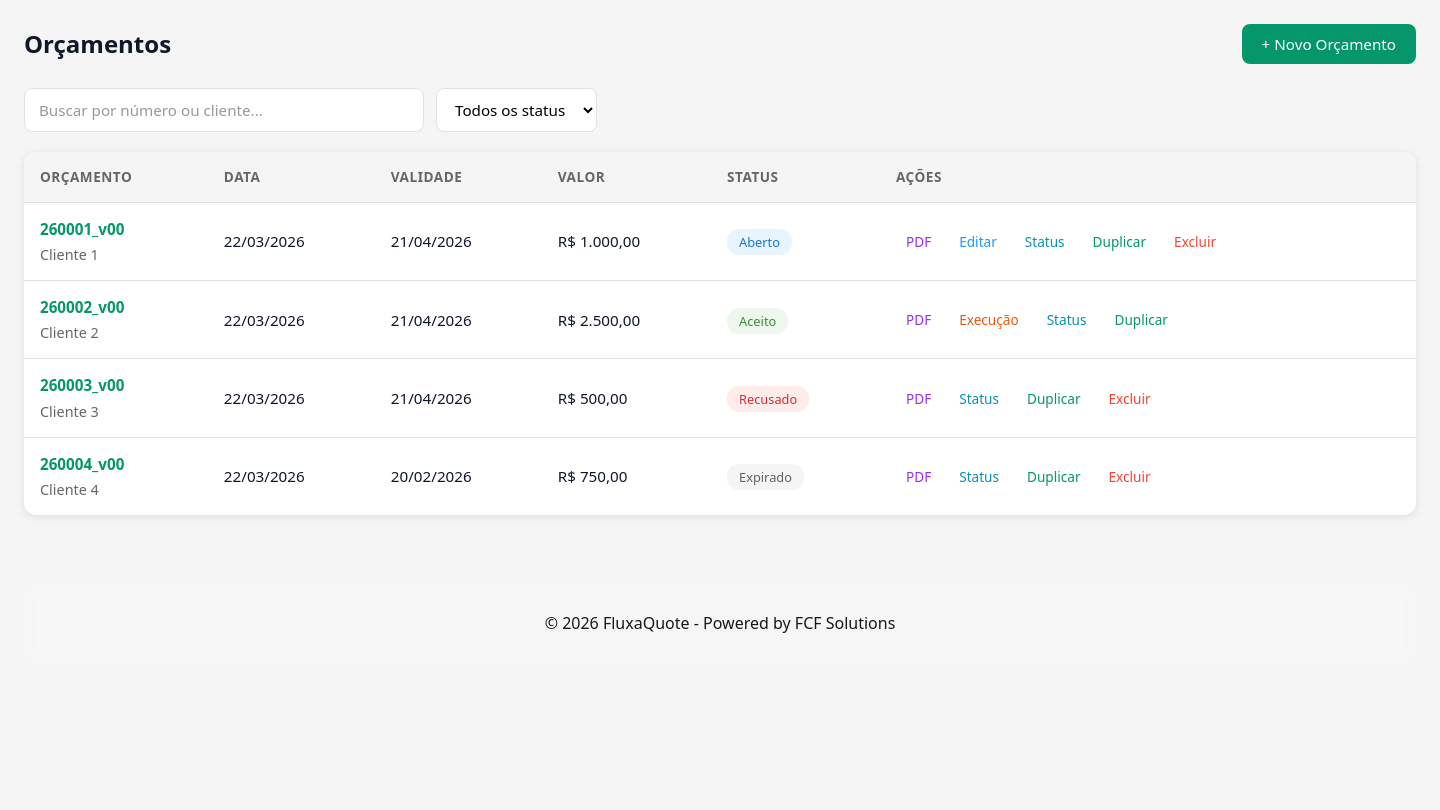
Test: Orcamentos › deve fechar modal de exclusão ao clicar em cancelar
Click the button titled "Excluir" in the row of "260001_v00".
click(1195, 241)  # box [1164,226,1226,257]
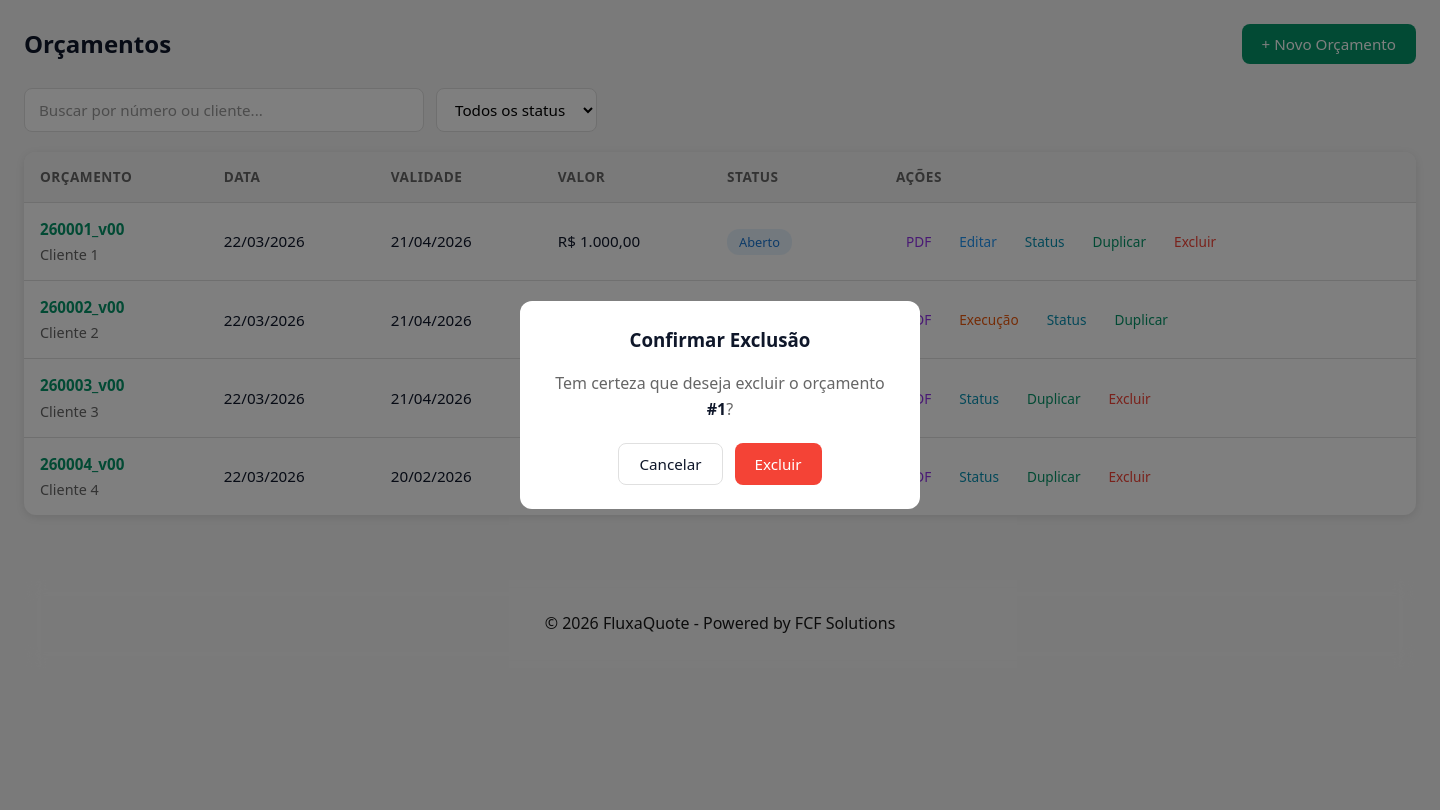
Check: the heading "Confirmar Exclusão" is shown, box [630,327,810,352]
Click the button "Cancelar".
click(671, 464)  # box [618,443,723,485]
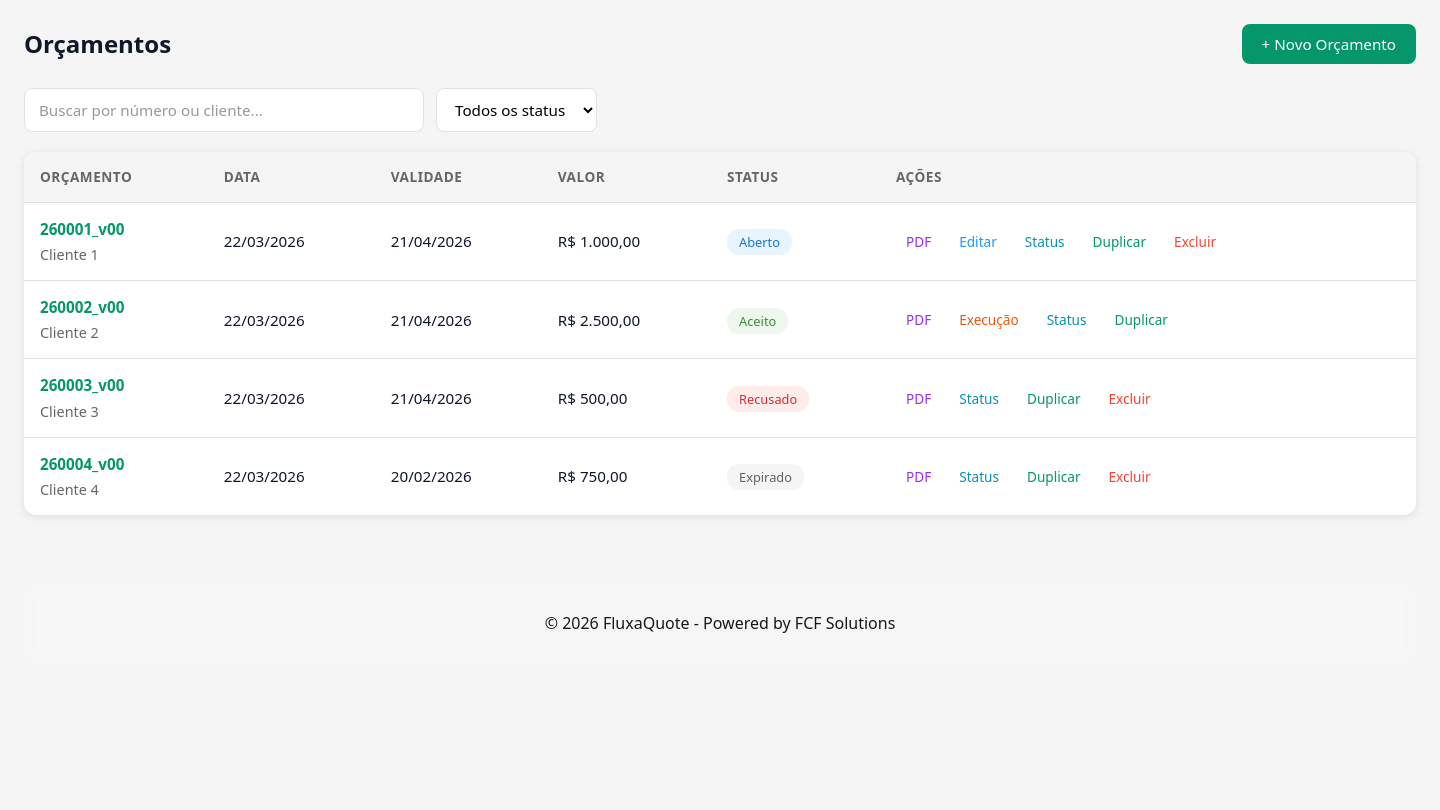
Check: the heading "Confirmar Exclusão" is gone
